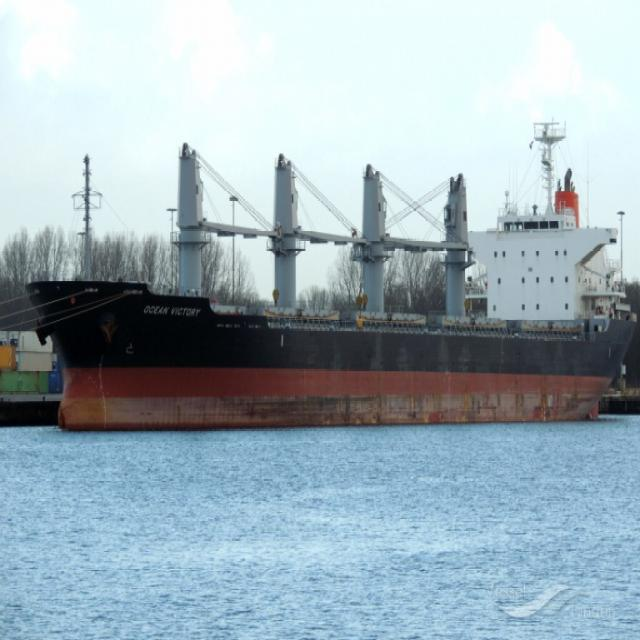OCR: (141, 302, 200, 327)
